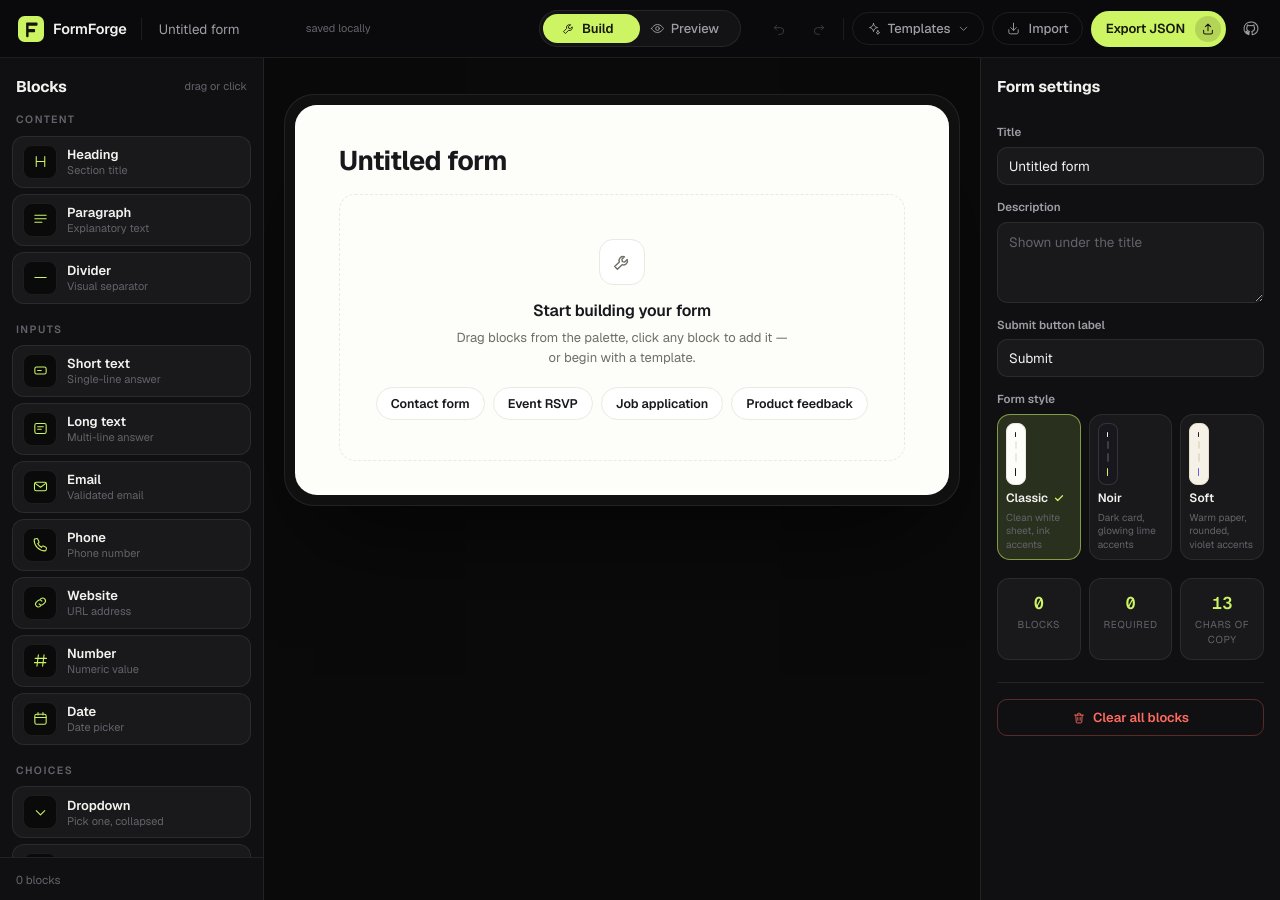
Test: template selection from Preview › renders Senior Frontend Engineer after selecting the template in Preview
Click the tab "Preview" at (684, 28), box [632,14,737,43]
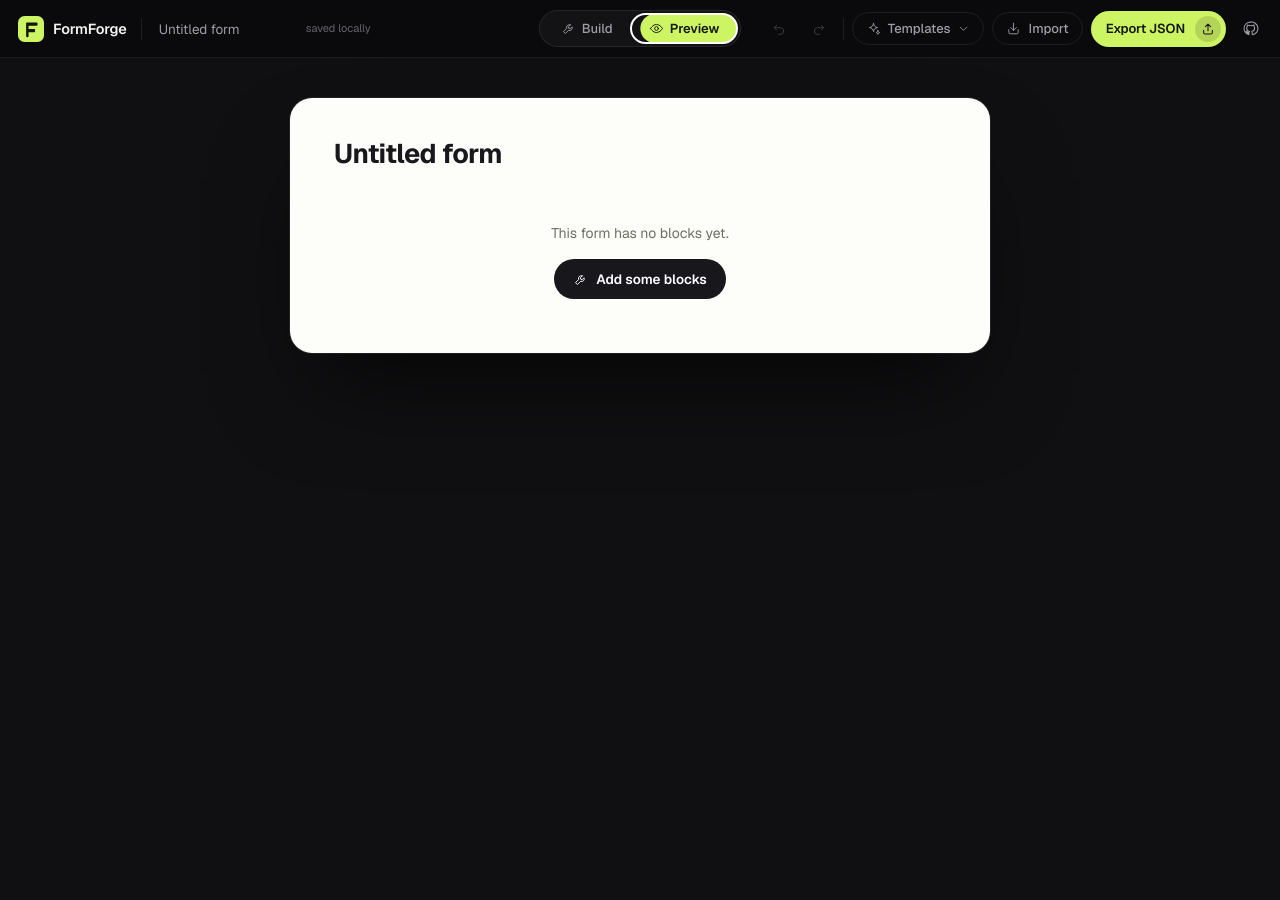
Click the button "Templates" at (918, 28), box [852,12,984,45]
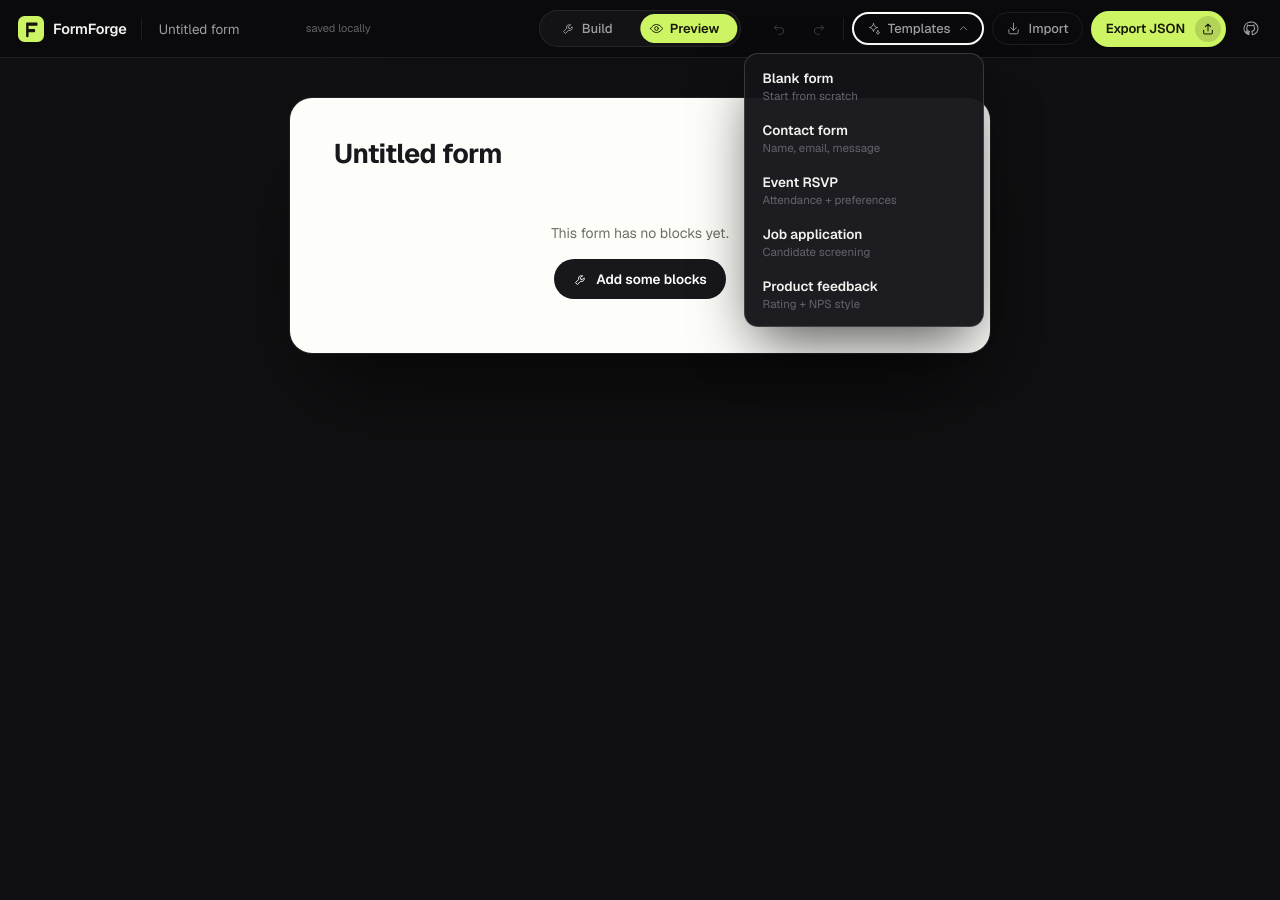
Click the menu item "Job application Candidate screening" at (864, 242), box [752,216,978,268]
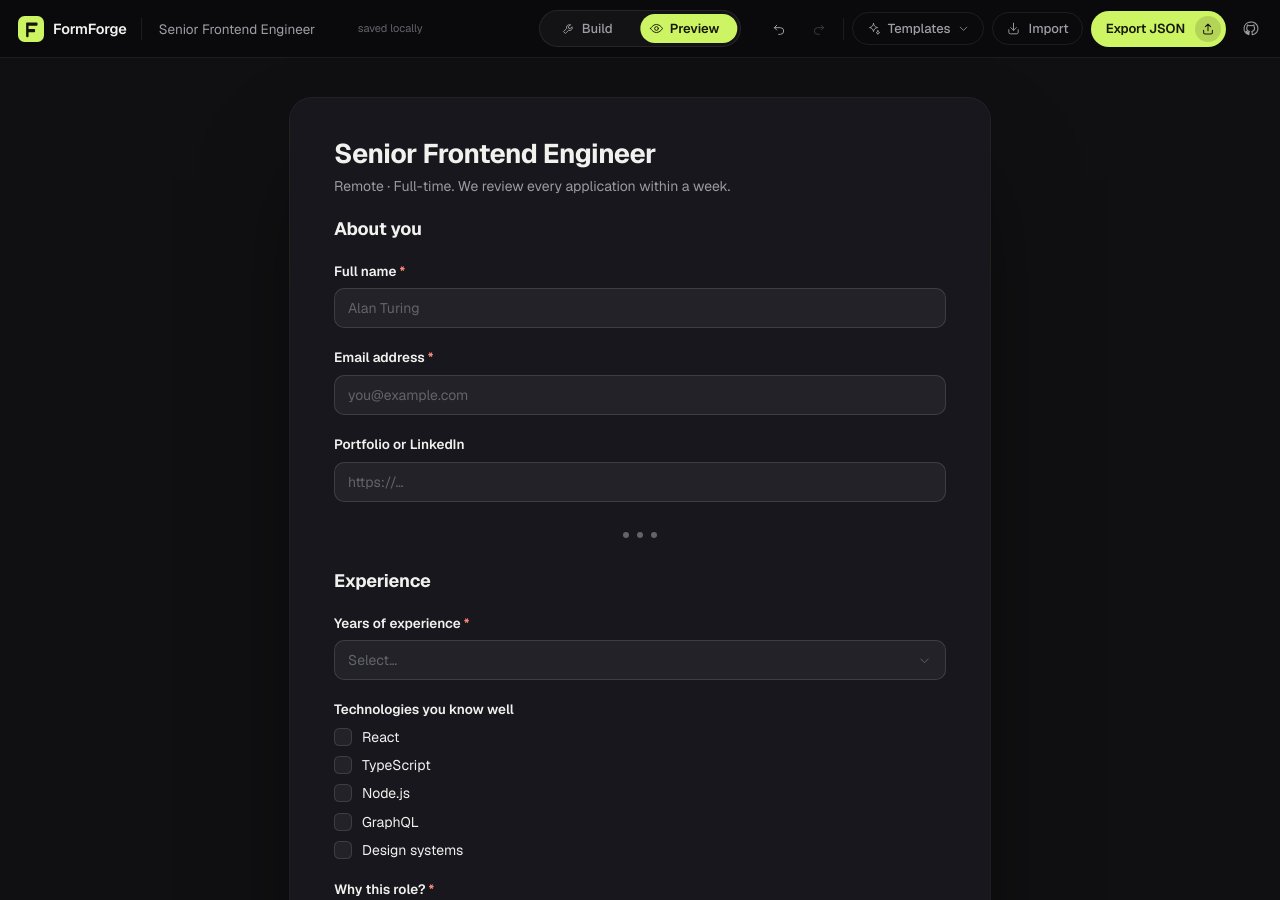
Expected: the heading "Senior Frontend Engineer" is shown, [334,136,656,171]
Expected: the element named "Technologies you know well" is shown, [334,728,463,859]
